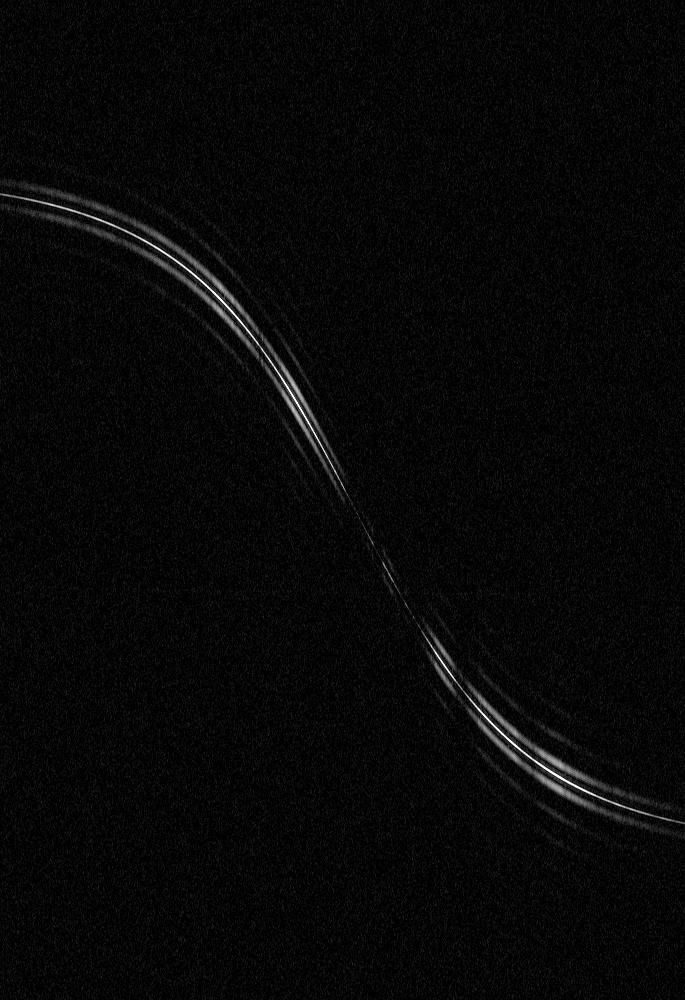signal: (0, 0, 684, 999)
